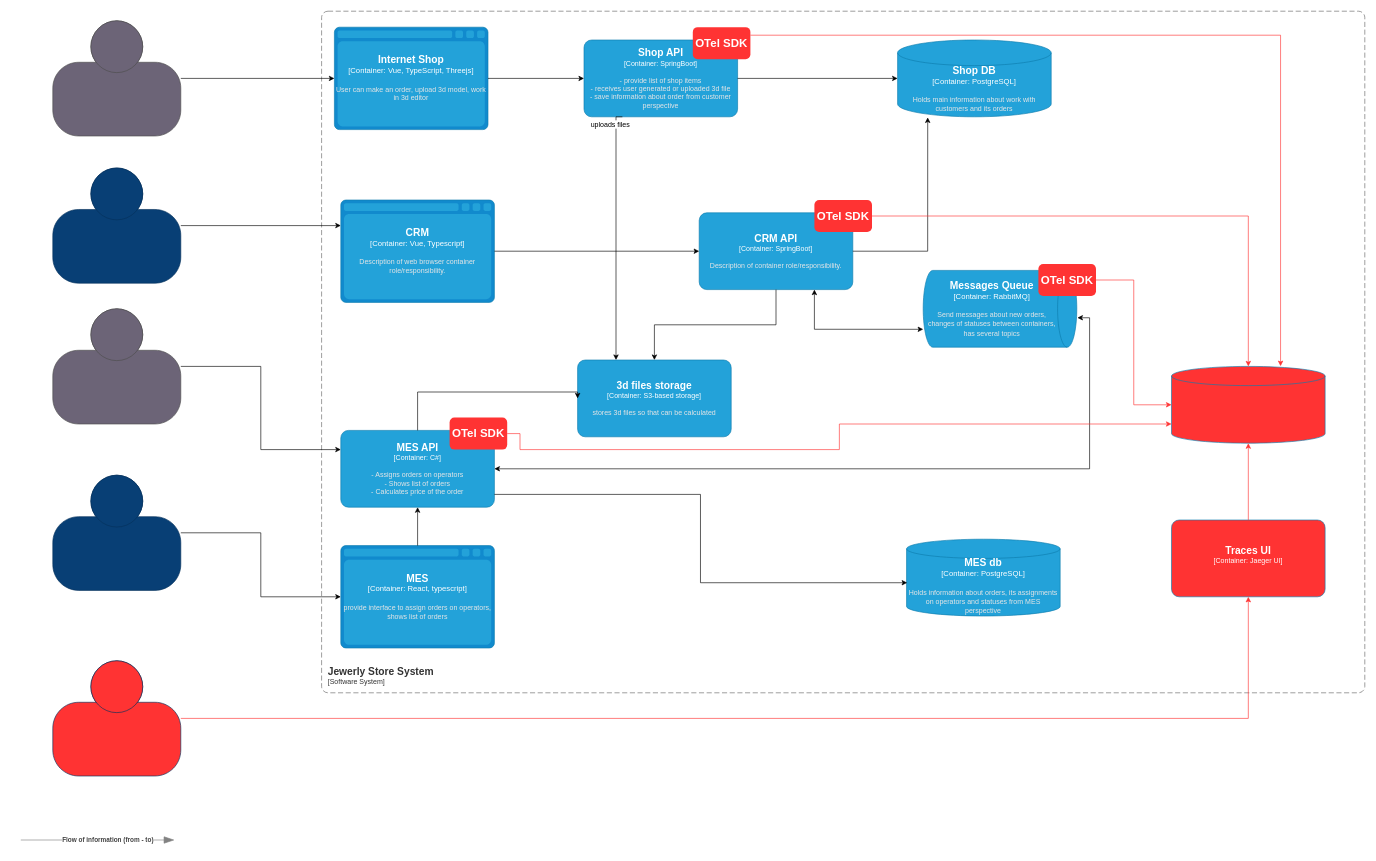
Some shapes in this 1376 by 861 pixel diagram are drawn without their labels. The centre of each missing label's shape, as x and y in pixels:
Administrator [Person] Monitors the health of system: (x=116, y=718)
API user [Person] Description of external person.: (x=116, y=366)
Customer [Person] Description of external person.: (x=116, y=78)
OpenTelemetry Collector [Container: Jaeger]: (x=1248, y=404)
Operator [Person] Takes order in work, manufactures jewerly: (x=116, y=532)
Seller [Person] Operates with order, confirms manufacturing for the user: (x=116, y=225)
